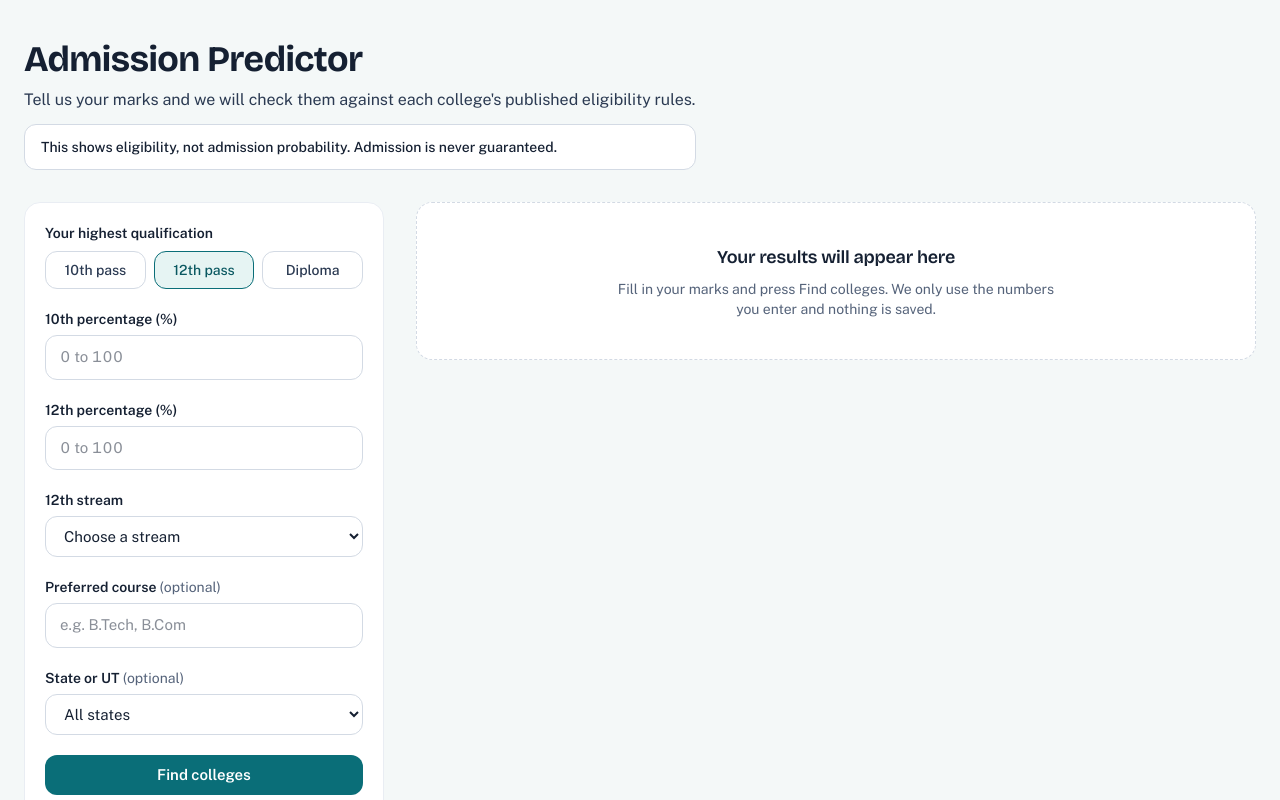
Test: Predictor › shows only the fields that belong to the chosen qualification
Expected: the number field labelled "10th percentage (%)" is shown, [45,335,363,380]
Expected: the number field labelled "12th percentage (%)" is shown, [45,426,363,470]
Click the radio button labelled "Diploma" at (313, 270), box [262,251,363,289]
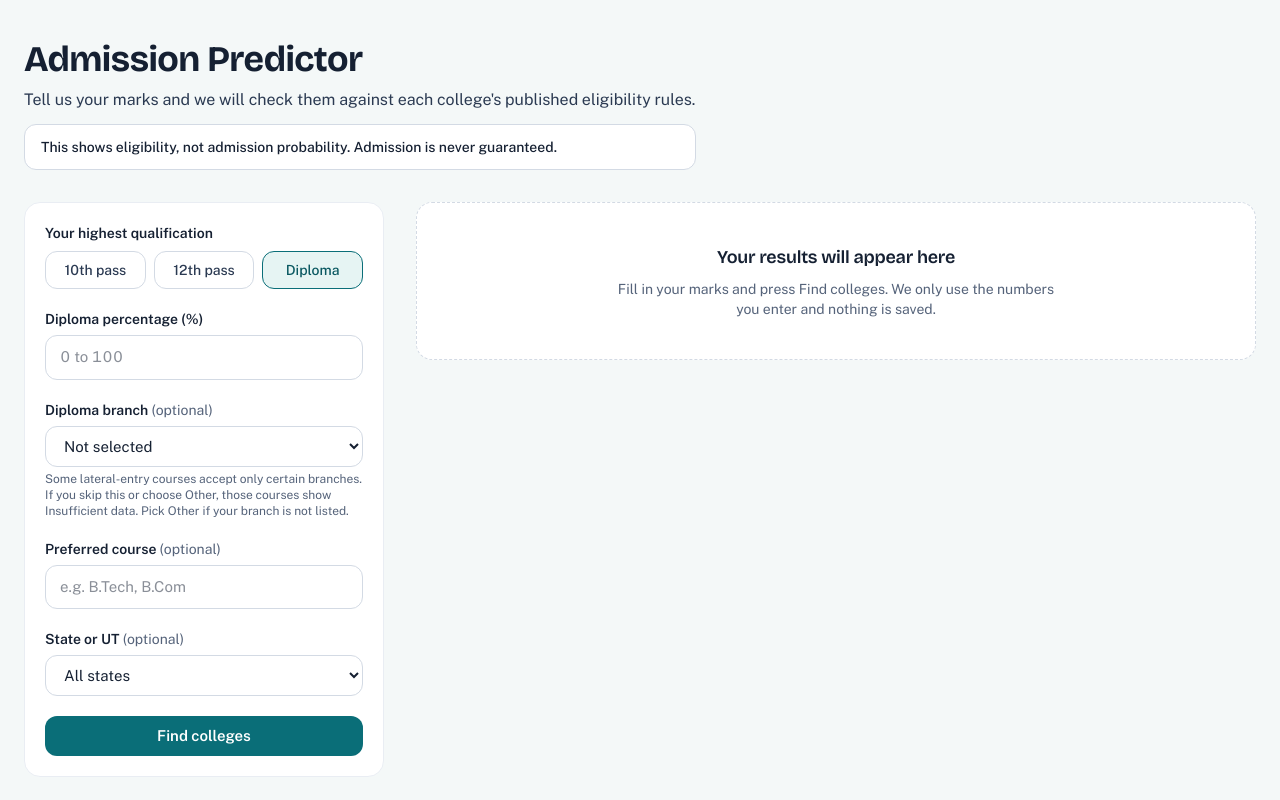
Expected: the dropdown labelled "Diploma branch (optional)" is shown, [45,426,363,466]
Expected: the label labelled "12th percentage" is gone
Expected: the label labelled "10th percentage" is gone
